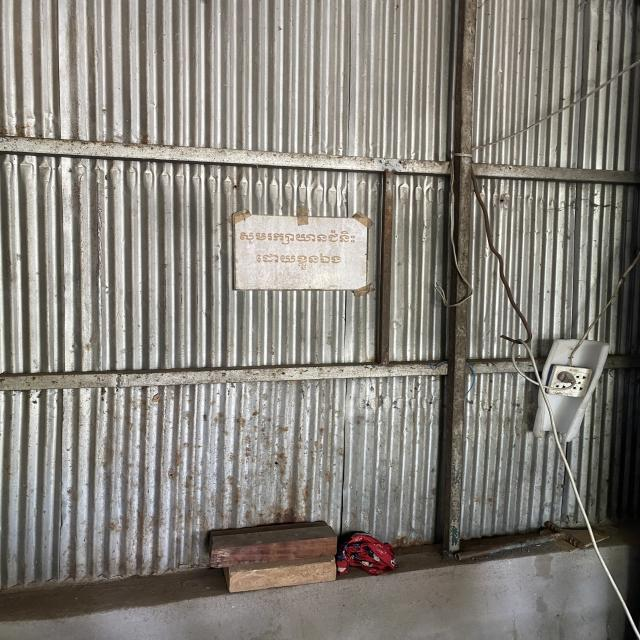Yolov11kh: (238, 228, 357, 248), (253, 252, 344, 274)
